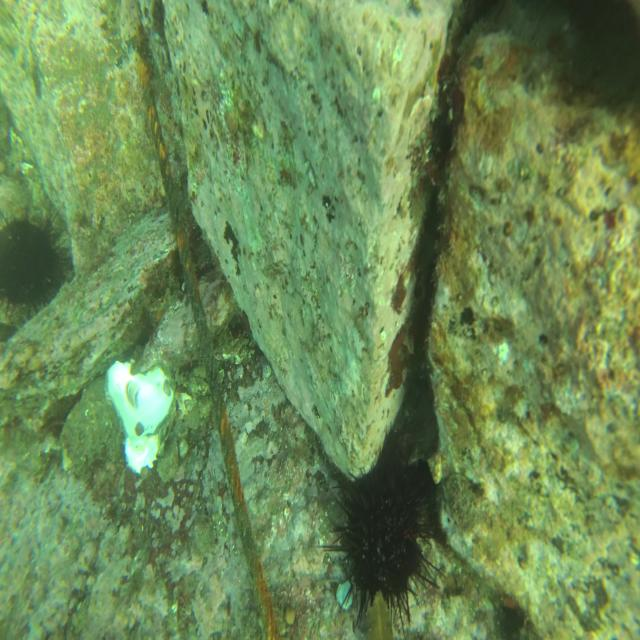echinus: (326, 443, 444, 623), (0, 204, 65, 313)
